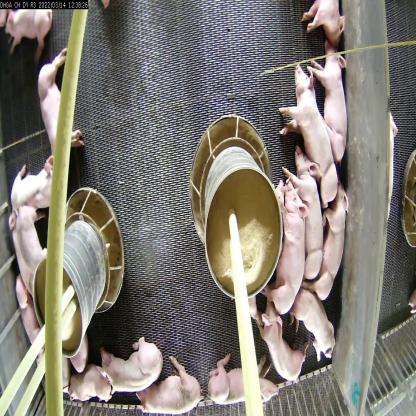Pig: (33, 43, 81, 168), (284, 72, 334, 183), (274, 183, 309, 318), (257, 306, 312, 390), (296, 276, 342, 366), (293, 154, 324, 279), (318, 44, 350, 164), (9, 275, 50, 363), (322, 174, 349, 303), (4, 199, 40, 291), (221, 355, 278, 411), (10, 163, 65, 217), (99, 339, 152, 392), (142, 365, 182, 416)
